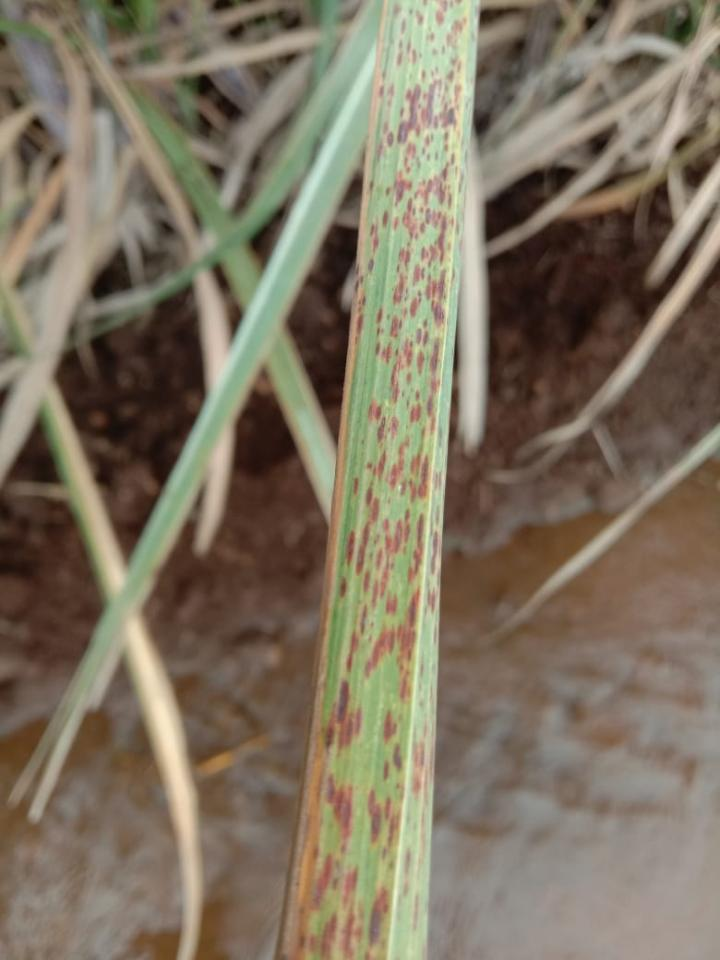Rust: (273, 0, 482, 959)
